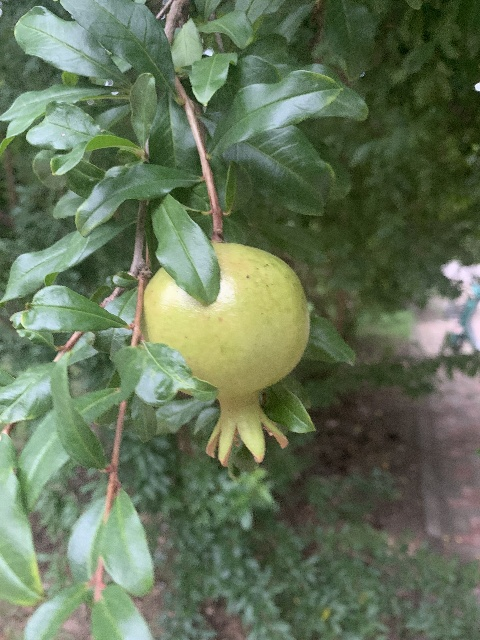mid-growth: (138, 240, 310, 466)
